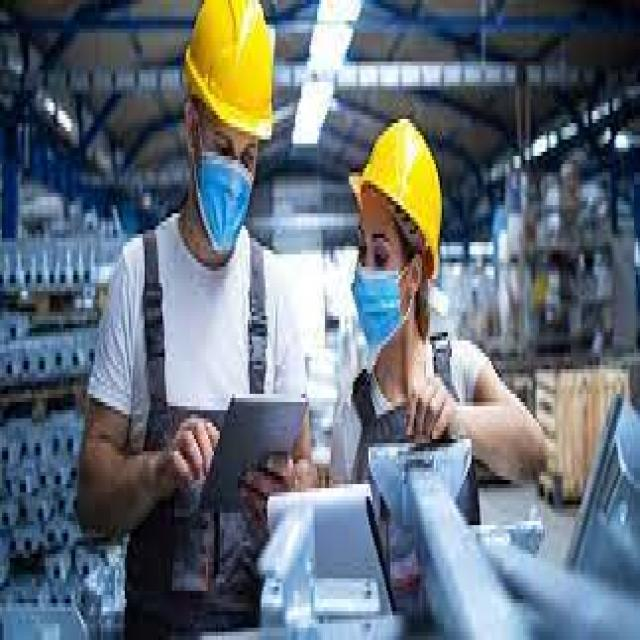Safety-Helmet: (347, 107, 450, 279), (176, 1, 282, 156)
